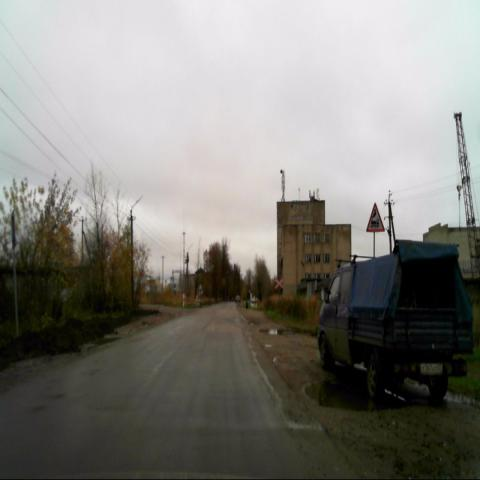1_2: (366, 202, 386, 234)
